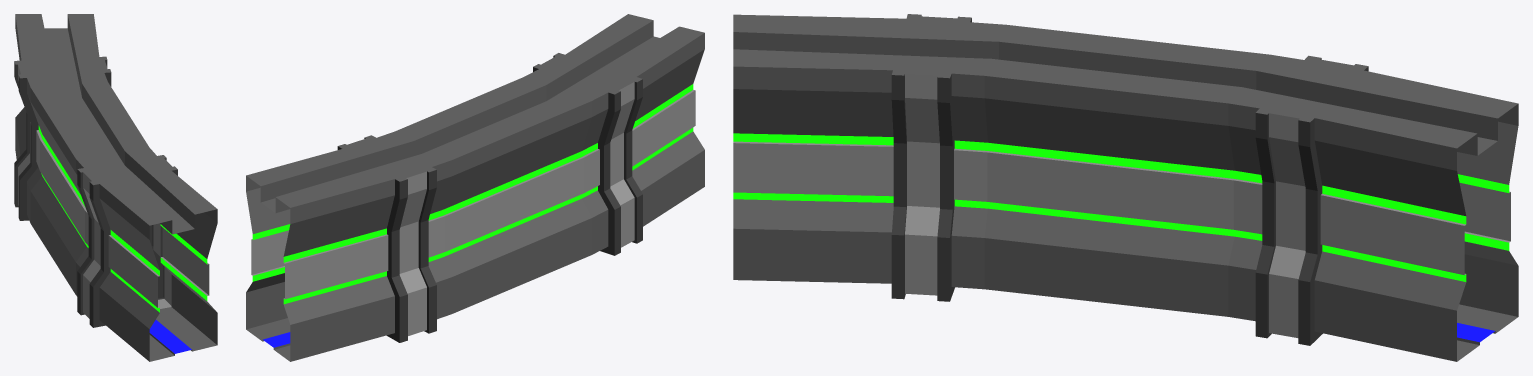
File: SkyTrain_Rail_02_Corner.FBX
3 renders of one model, left to right at view 1: azimuth 30°, elevation 25°; view 2: azimuth 150°, elevation 25°; view 3: azimuth 270°, elevation 25°, orthographic. The views are drawn at different scales.
Visible parts, largest first — view 1: SkyTrain_Rail_02_Corner_LOD0; view 2: SkyTrain_Rail_02_Corner_LOD0; view 3: SkyTrain_Rail_02_Corner_LOD0.
Boxes of the visible parts, bbox=[...] form: SkyTrain_Rail_02_Corner_LOD0: bbox=[14, 14, 217, 361]; SkyTrain_Rail_02_Corner_LOD0: bbox=[246, 14, 704, 361]; SkyTrain_Rail_02_Corner_LOD0: bbox=[733, 14, 1518, 361].
Size of what is drawn, in the model's own units: 145 by 113 by 359.
